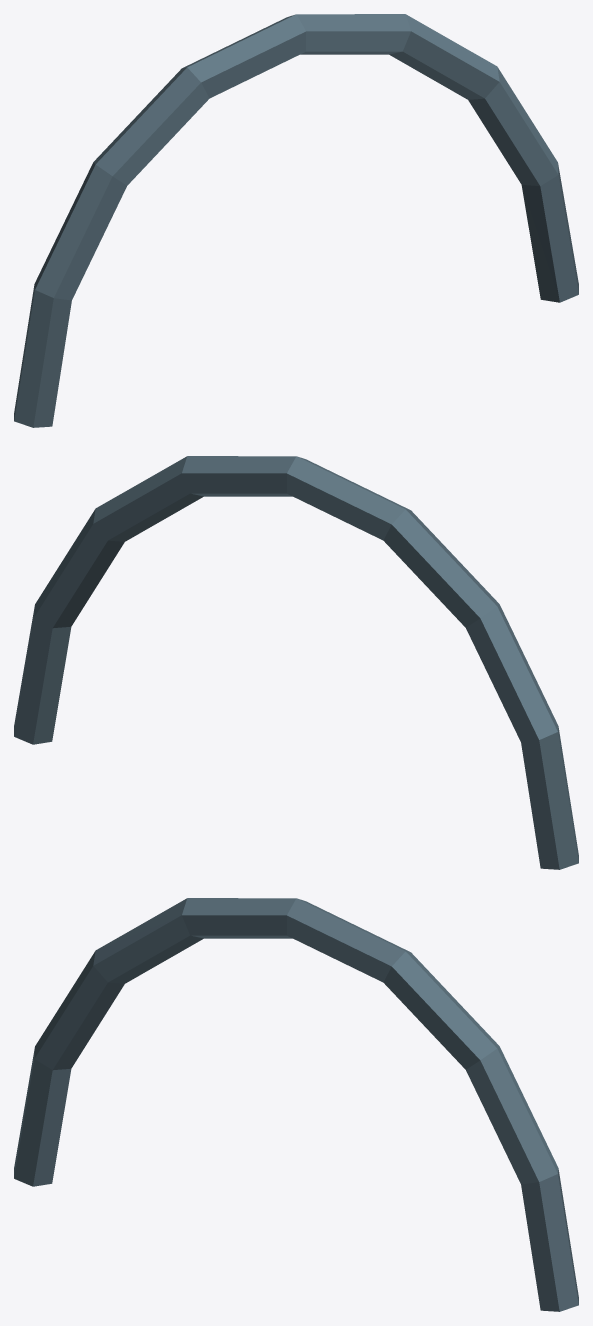
The model's file is D26_Bucket_Handle.fbx.
3 renders of one model, top to bottom at view 1: azimuth 30°, elevation 25°; view 2: azimuth 150°, elevation 25°; view 3: azimuth 330°, elevation 25°, orthographic.
Parts seen in each view (by area): view 1: D26_Bucket_Handle; view 2: D26_Bucket_Handle; view 3: D26_Bucket_Handle.
Part boxes in pixels (x1=…): D26_Bucket_Handle: x1=14, y1=14, x2=578, y2=427; D26_Bucket_Handle: x1=14, y1=456, x2=578, y2=869; D26_Bucket_Handle: x1=14, y1=898, x2=578, y2=1311.
Size of the model in its own units: 0.6434 by 0.3757 by 0.0381.
1 material, 1 textured.
